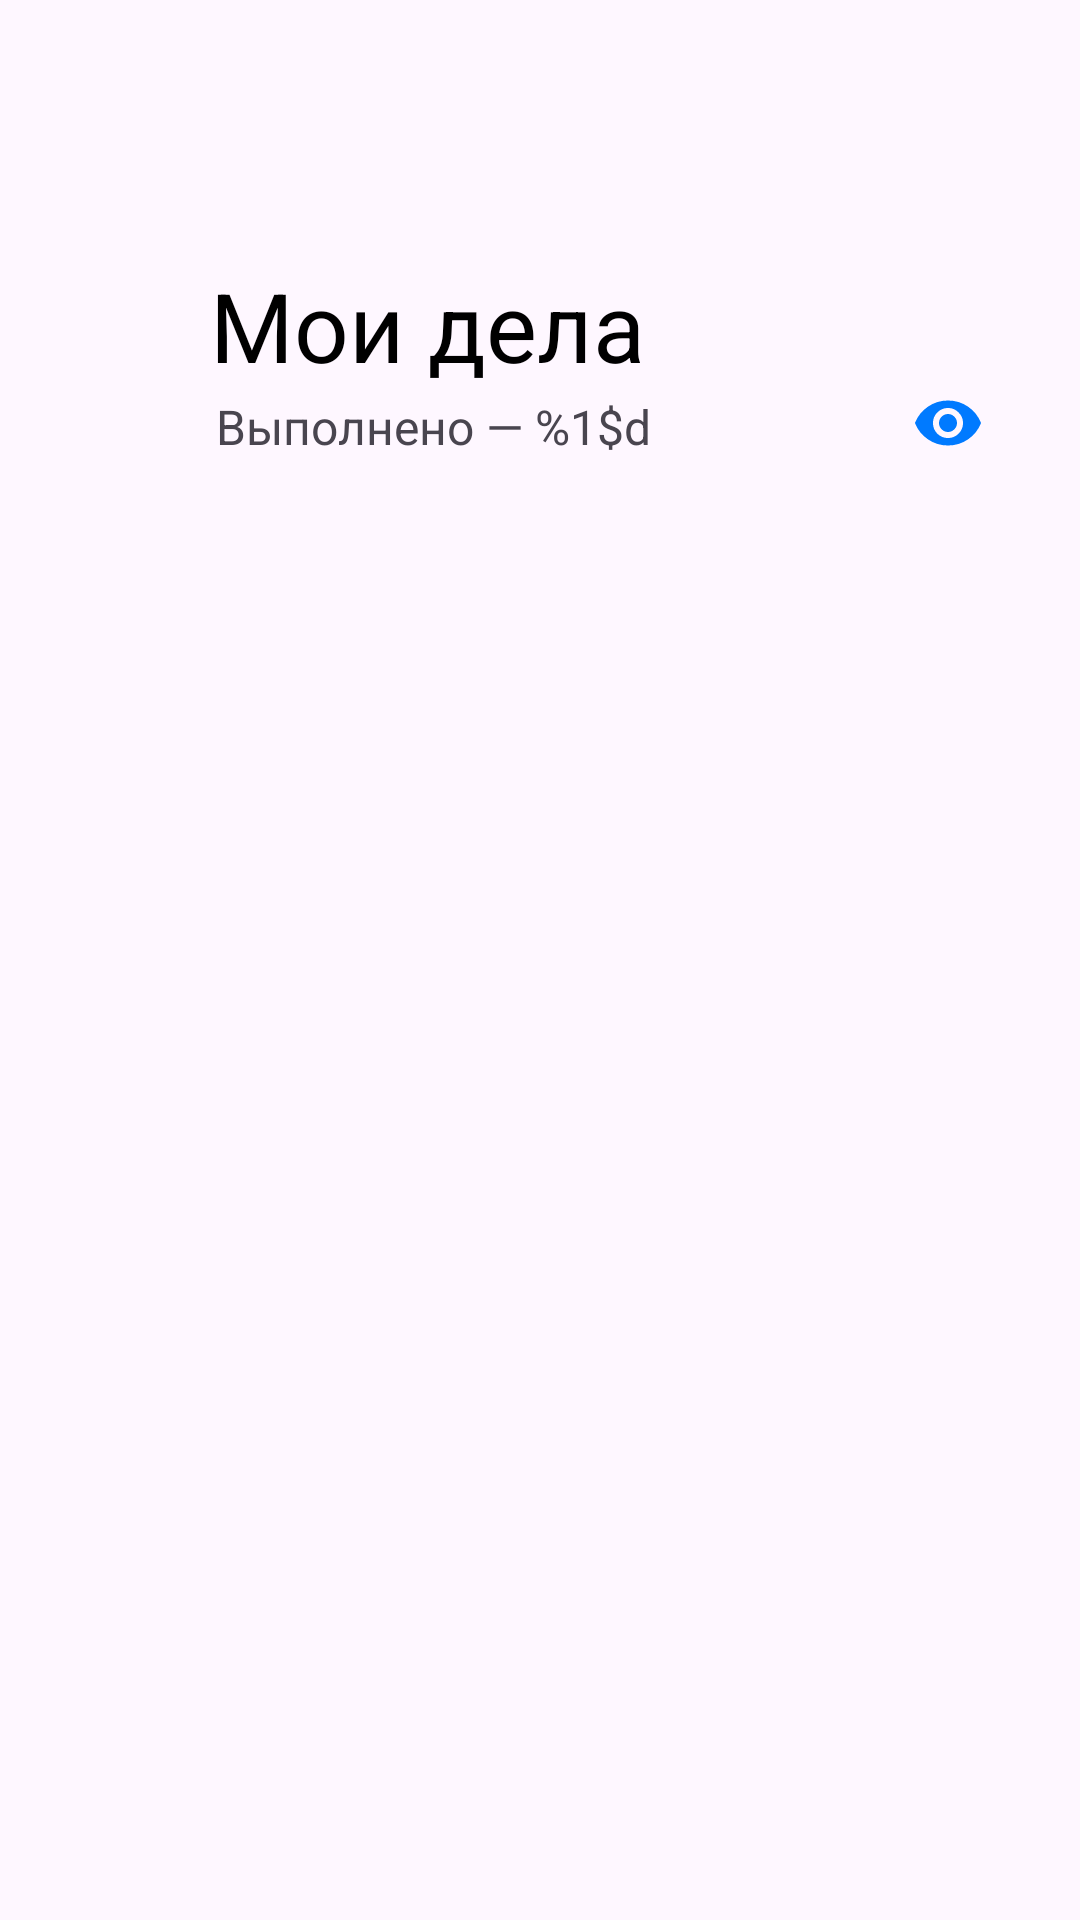

Locate icon controls on the screen. Image size 1080 x 1920, boxes as bbox(x1, y1, x2, y2).
visible: bbox(915, 400, 981, 446)
